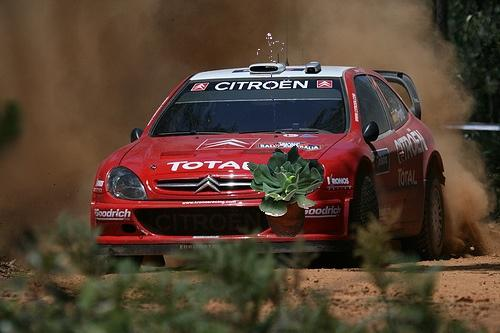tampered: (248, 34, 324, 237)
